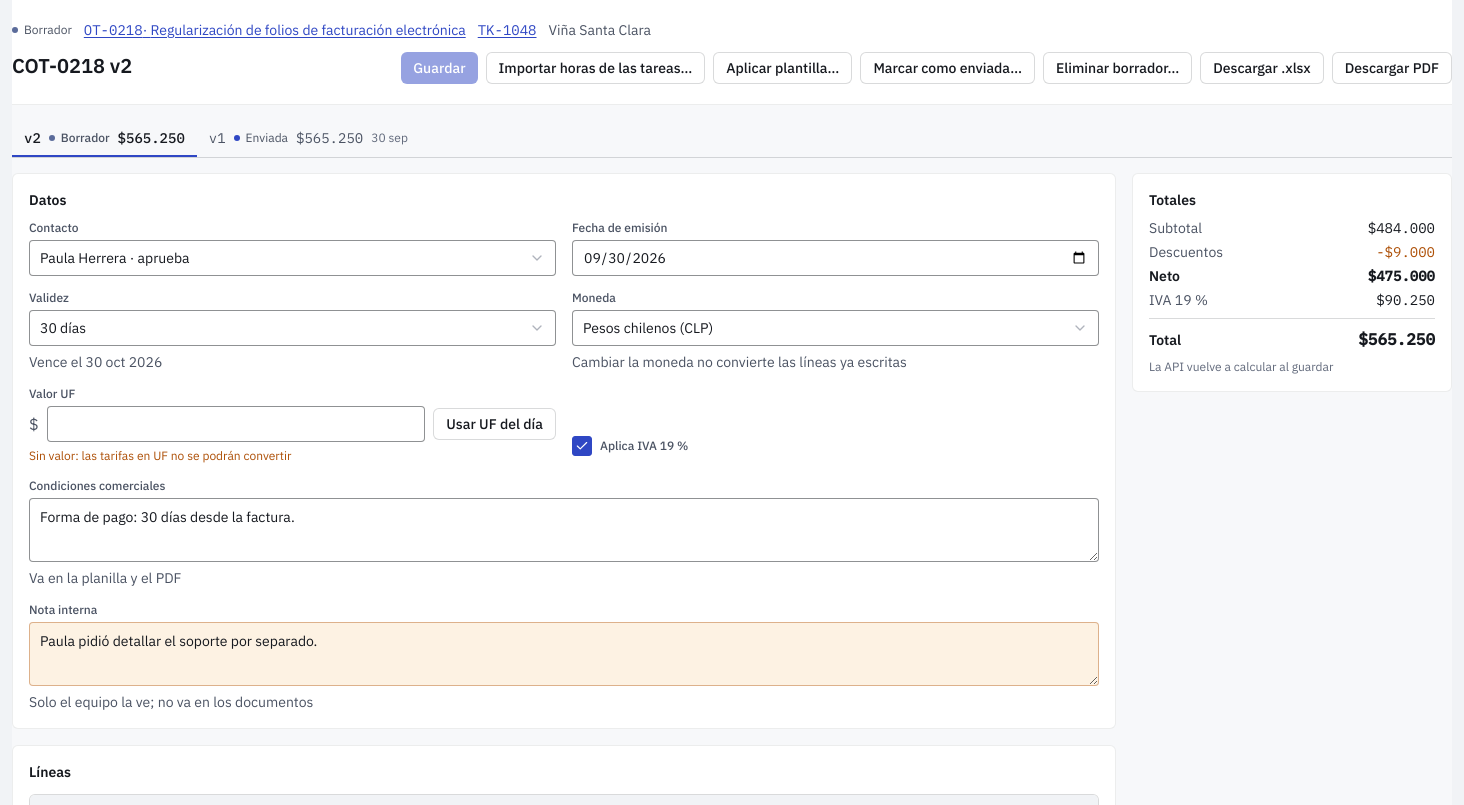
al desmarcar IVA el total queda en 475.000 y el IVA en "Exento"
What coordinates should you click on to do the following:
click the checkbox named "Aplica IVA 19 %"
I would click on:
 (582, 446)
Its box is [572,436,592,456].
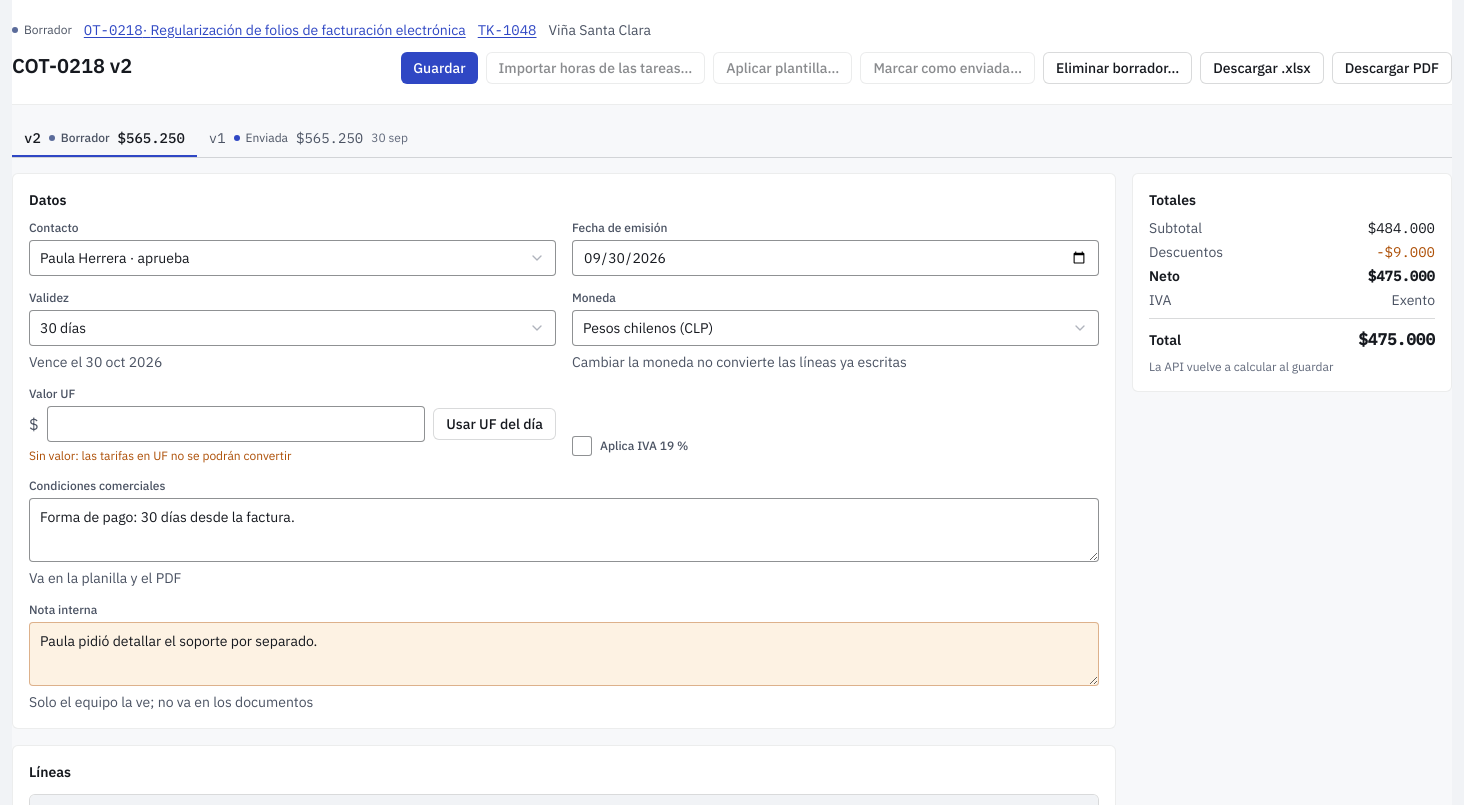
Check: the text "$475.000" is shown 2 times, box [1368,267,1435,285]; [1358,329,1435,349]
Check: the text "Exento" is shown, box [1392,291,1435,309]
